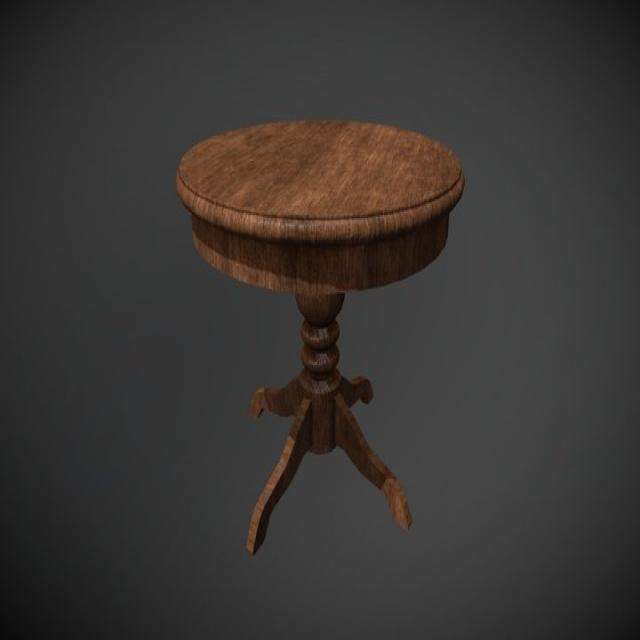table: (179, 117, 467, 555)
